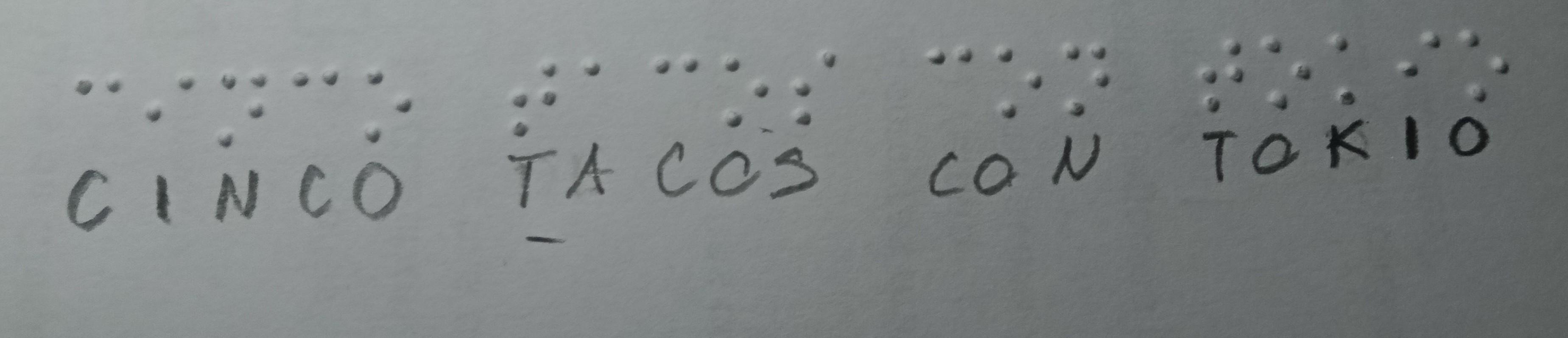a: (566, 39, 613, 142)
c: (53, 52, 131, 144), (638, 47, 710, 140), (288, 60, 351, 154), (920, 30, 979, 124)
i: (134, 49, 203, 154), (1389, 26, 1448, 108)
k: (1325, 26, 1377, 114)
n: (210, 52, 278, 162), (1054, 28, 1123, 128)
o: (982, 30, 1052, 137), (1453, 22, 1531, 114), (1253, 24, 1319, 125), (358, 56, 423, 152), (717, 47, 774, 138)
s: (780, 37, 850, 141)
t: (498, 47, 573, 148), (1194, 26, 1257, 123)
